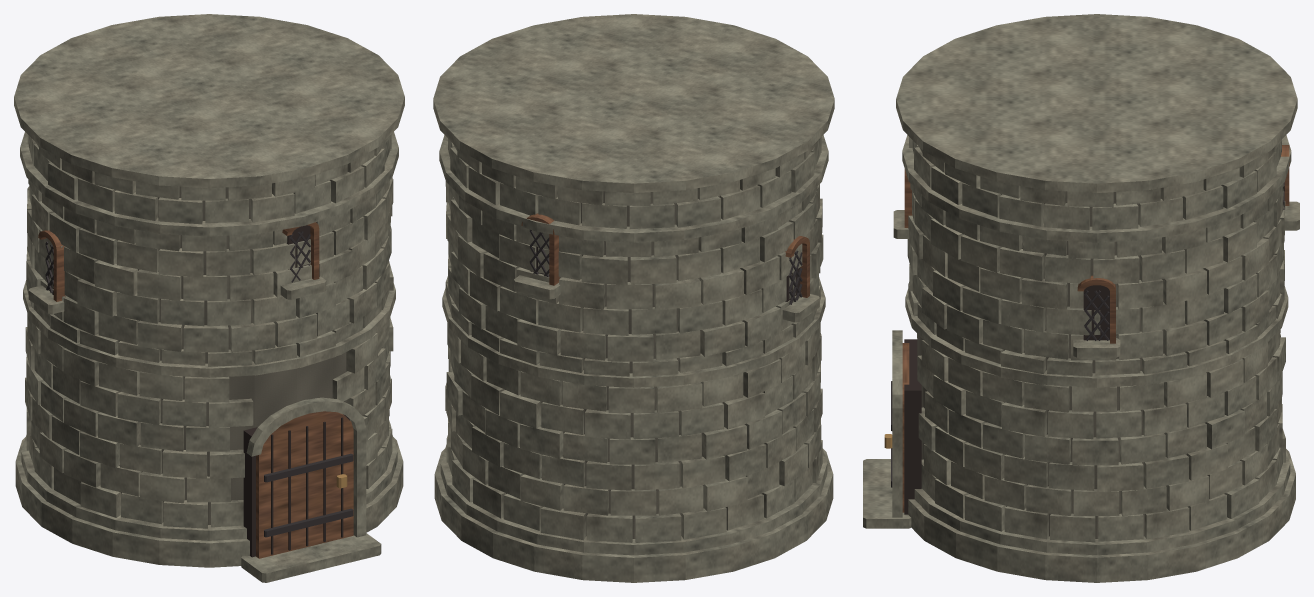
Rendered from round_tower_base.glb.
3 views of the same model, side by side, from view 1: azimuth 30°, elevation 25°; view 2: azimuth 150°, elevation 25°; view 3: azimuth 270°, elevation 25° (orthographic). The views are drawn at different scales.
Parts seen in each view (by area): view 1: Round Tower Base; view 2: Round Tower Base; view 3: Round Tower Base.
Boxes of the visible parts, x1,y1,x2,y2 form: Round Tower Base: (14,14,404,582); Round Tower Base: (433,14,834,582); Round Tower Base: (863,14,1299,582).
Size of the model in its own units: 5.28 by 5.74 by 5.68.
Materials: 6 (3 with a texture image).
